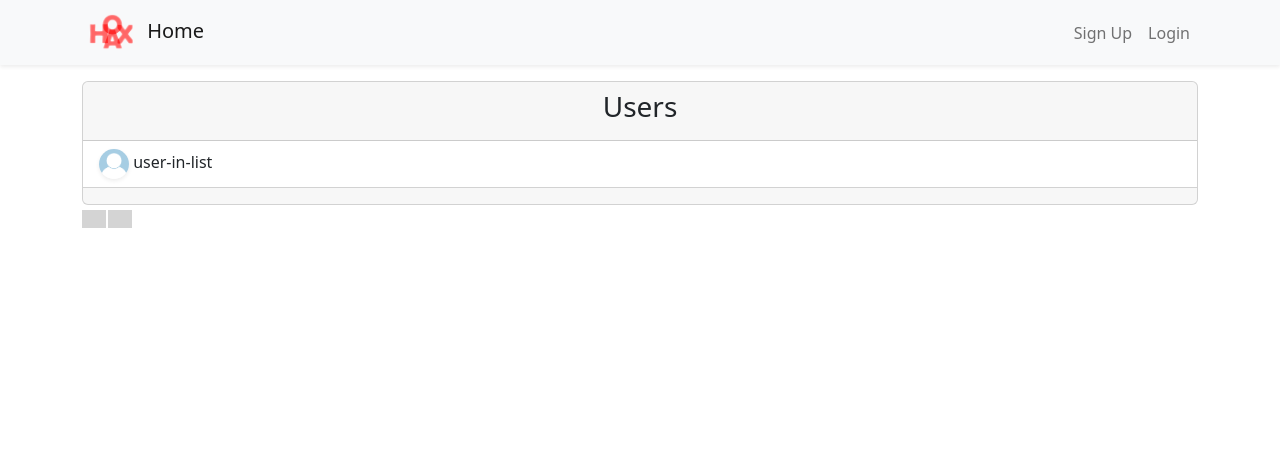
Test: Routing › displays  login-page after clicking Login link
Click the link "Login".
click(1169, 33)  # box [1148, 22, 1190, 44]
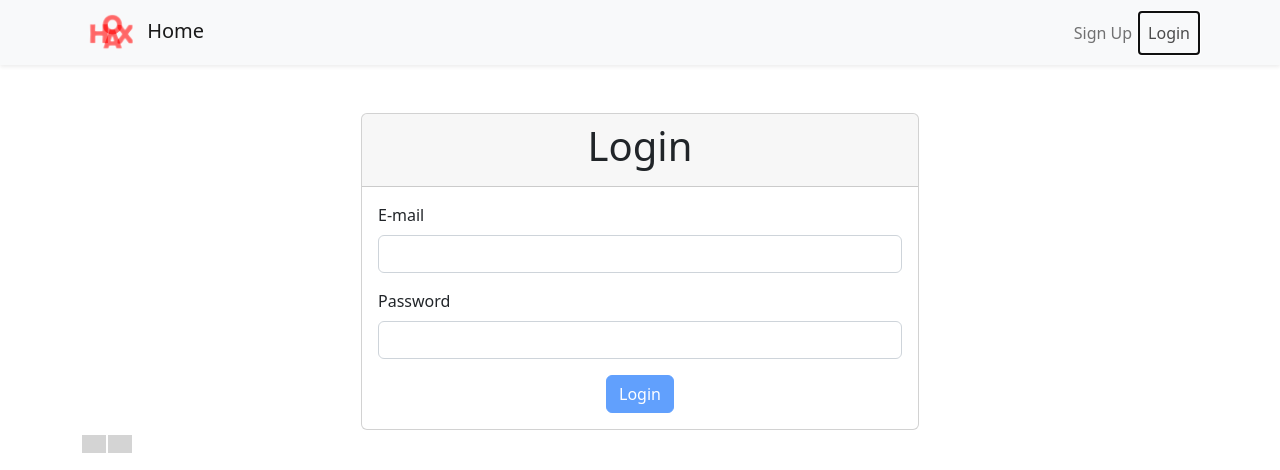
Check: the element with test id "login-page" is shown, box [361, 113, 919, 430]
